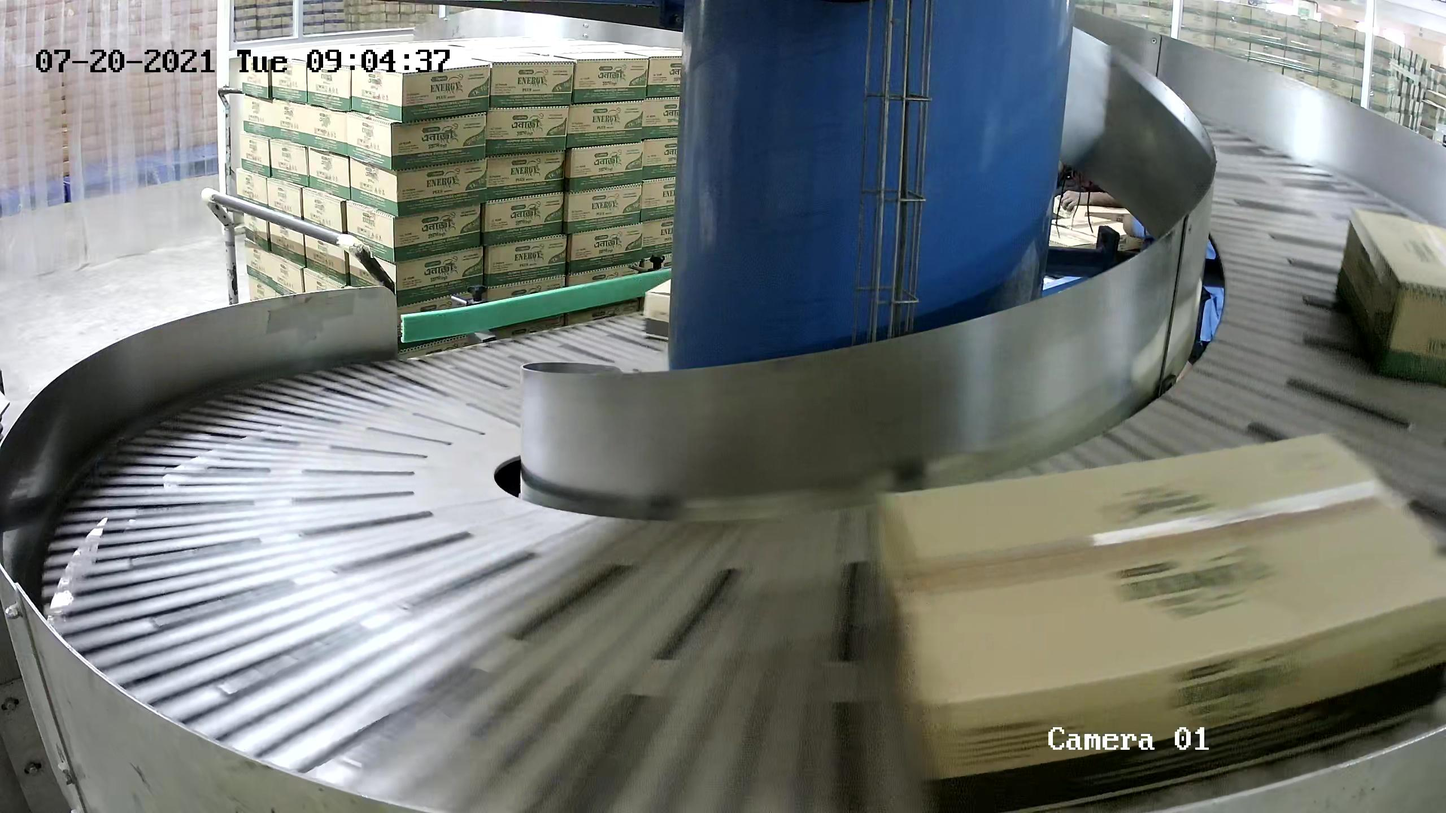Box: (870, 429, 1446, 813), (1332, 203, 1446, 394)
